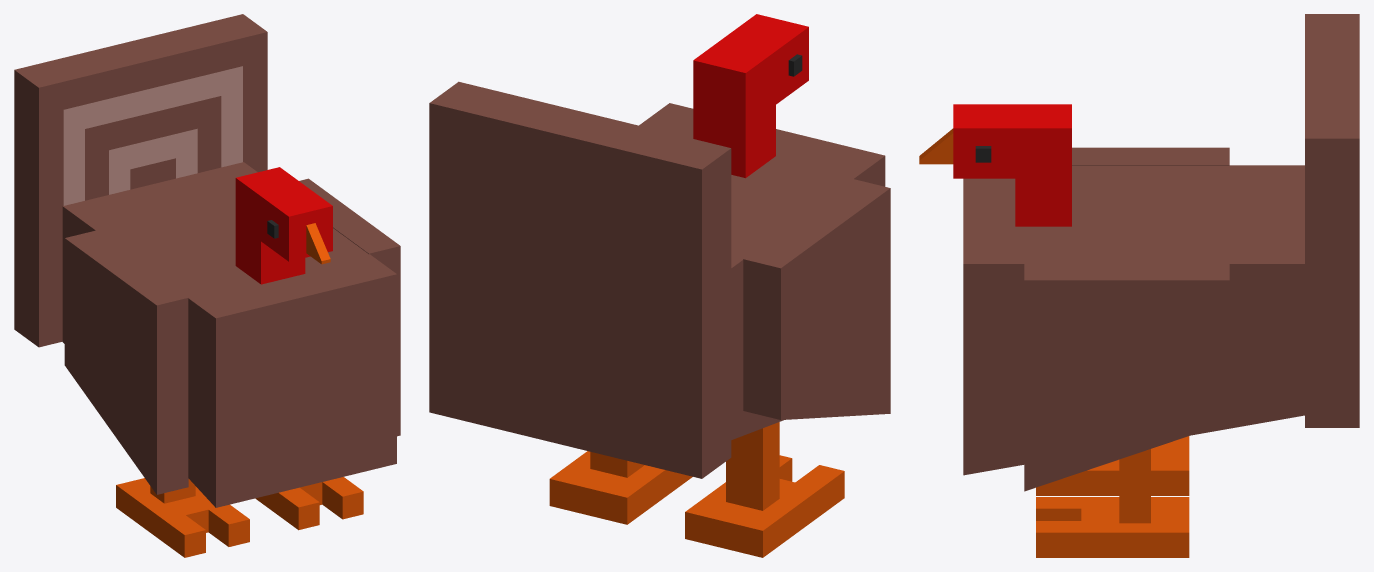
The model's file is 082 Chicken.fbx.
3 renders of one model, left to right at view 1: azimuth 30°, elevation 25°; view 2: azimuth 150°, elevation 25°; view 3: azimuth 270°, elevation 25°, orthographic. The views are drawn at different scales.
Visible parts, largest first — view 1: Lowpoly_Christmas_Pack_082:pCube11; view 2: Lowpoly_Christmas_Pack_082:pCube11; view 3: Lowpoly_Christmas_Pack_082:pCube11.
Part boxes in pixels (x1=…): Lowpoly_Christmas_Pack_082:pCube11: x1=14, y1=14, x2=400, y2=557; Lowpoly_Christmas_Pack_082:pCube11: x1=429, y1=14, x2=890, y2=557; Lowpoly_Christmas_Pack_082:pCube11: x1=919, y1=14, x2=1359, y2=557.
Size of the model in its own units: 0.7474 by 1.14 by 1.05.
